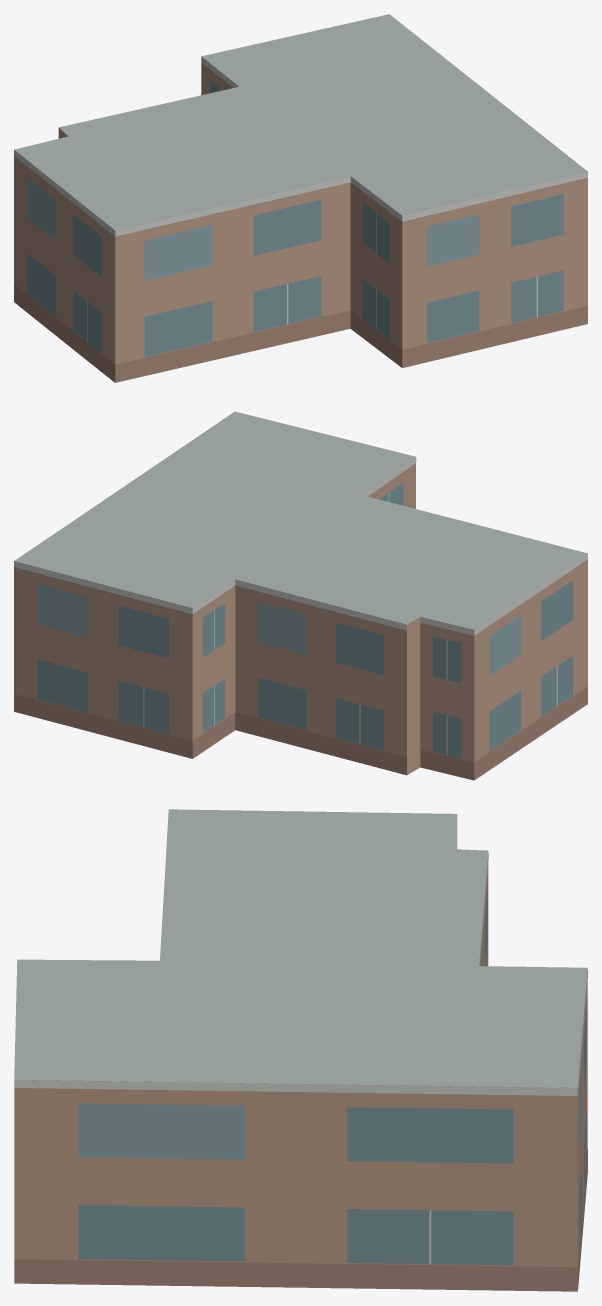
The model's file is survey-upis-32765816.glb.
3 renders of one model, top to bottom at view 1: azimuth 30°, elevation 25°; view 2: azimuth 150°, elevation 25°; view 3: azimuth 270°, elevation 25°, orthographic. The views are drawn at different scales.
Parts seen in each view (by area): view 1: survey-upis-32765816.tmp; view 2: survey-upis-32765816.tmp; view 3: survey-upis-32765816.tmp.
Boxes of the visible parts, <box> form: survey-upis-32765816.tmp: <box>14,14,587,382</box>; survey-upis-32765816.tmp: <box>14,411,587,780</box>; survey-upis-32765816.tmp: <box>14,809,587,1291</box>.
Size of the model in its own units: 17.91 by 6.1 by 15.58.
